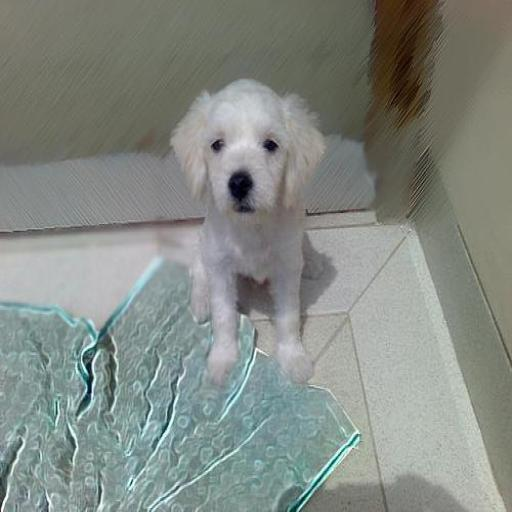dog_face: (174, 84, 314, 227)
